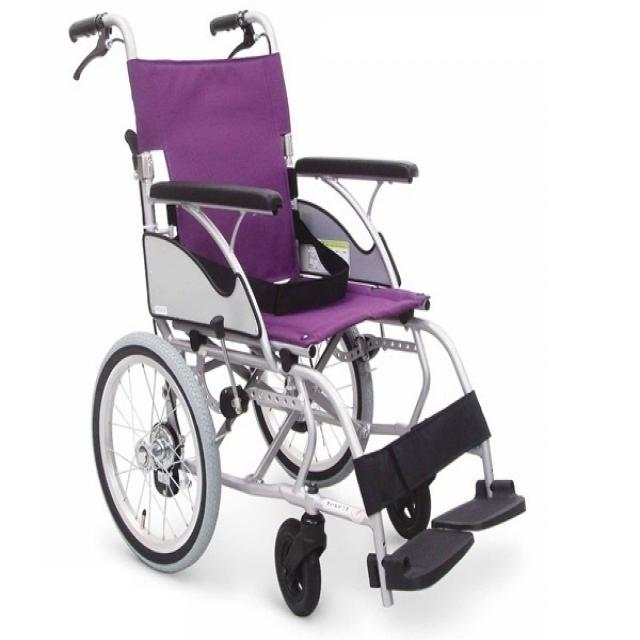wheelchair: (60, 0, 531, 622)
